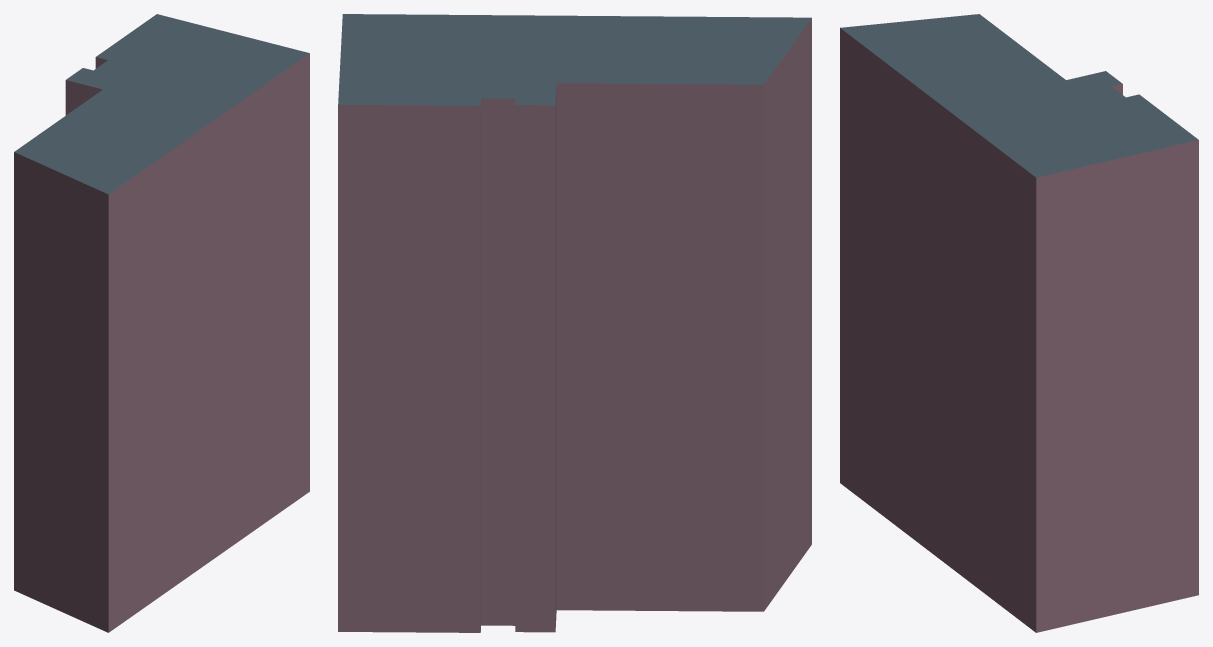
Rendered from nyc-1015281-0.glb.
3 renders of one model, left to right at view 1: azimuth 30°, elevation 25°; view 2: azimuth 150°, elevation 25°; view 3: azimuth 270°, elevation 25°, orthographic. The views are drawn at different scales.
Visible parts, largest first — view 1: nyc-1015281-0; view 2: nyc-1015281-0; view 3: nyc-1015281-0.
Boxes of the visible parts, x1=… form: nyc-1015281-0: x1=14, y1=14, x2=309, y2=632; nyc-1015281-0: x1=338, y1=14, x2=811, y2=632; nyc-1015281-0: x1=840, y1=14, x2=1198, y2=632.
Bounding box in the file's own units: 63.37 × 82.18 × 58.72.
